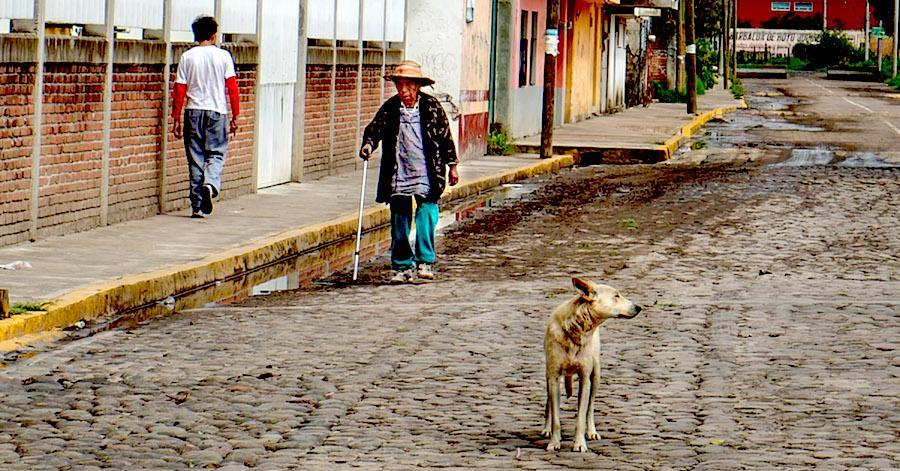normal_dogs: (529, 272, 640, 455)
